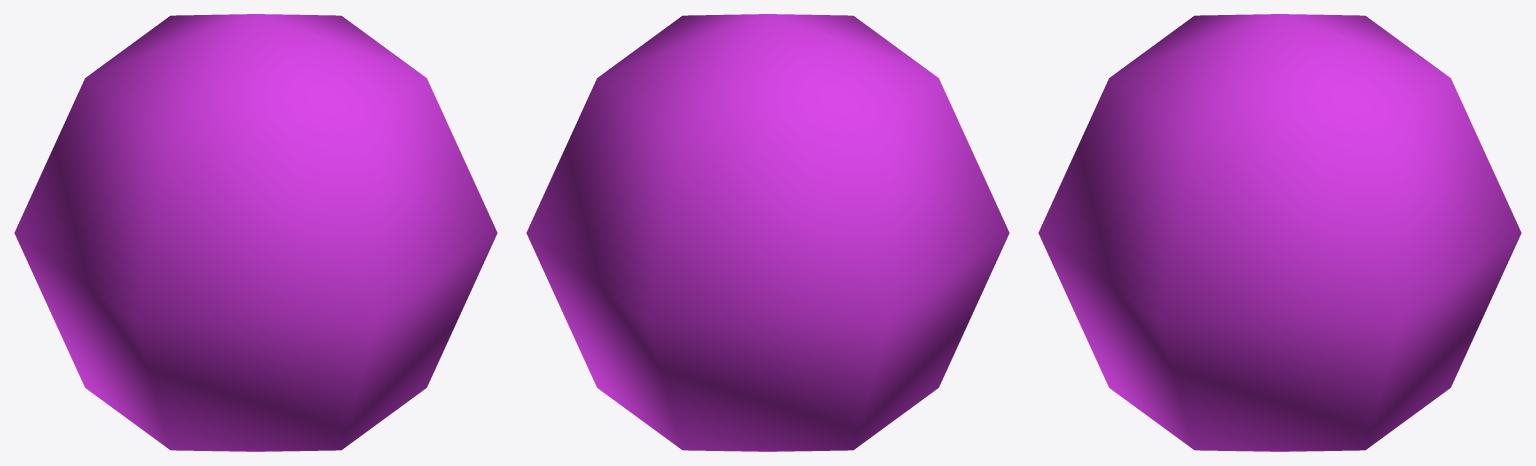
File: hip_ball.gltf
3 views of the same model, side by side, from view 1: azimuth 30°, elevation 25°; view 2: azimuth 150°, elevation 25°; view 3: azimuth 270°, elevation 25° (orthographic).
Parts seen in each view (by area): view 1: LEFT_HIP; view 2: LEFT_HIP; view 3: LEFT_HIP.
Boxes of the visible parts, x1,y1,x2,y2 form: LEFT_HIP: (14,14,497,451); LEFT_HIP: (526,14,1009,451); LEFT_HIP: (1038,14,1521,451).
Size of the model in its own units: 0.1212 by 0.1399 by 0.1399.
